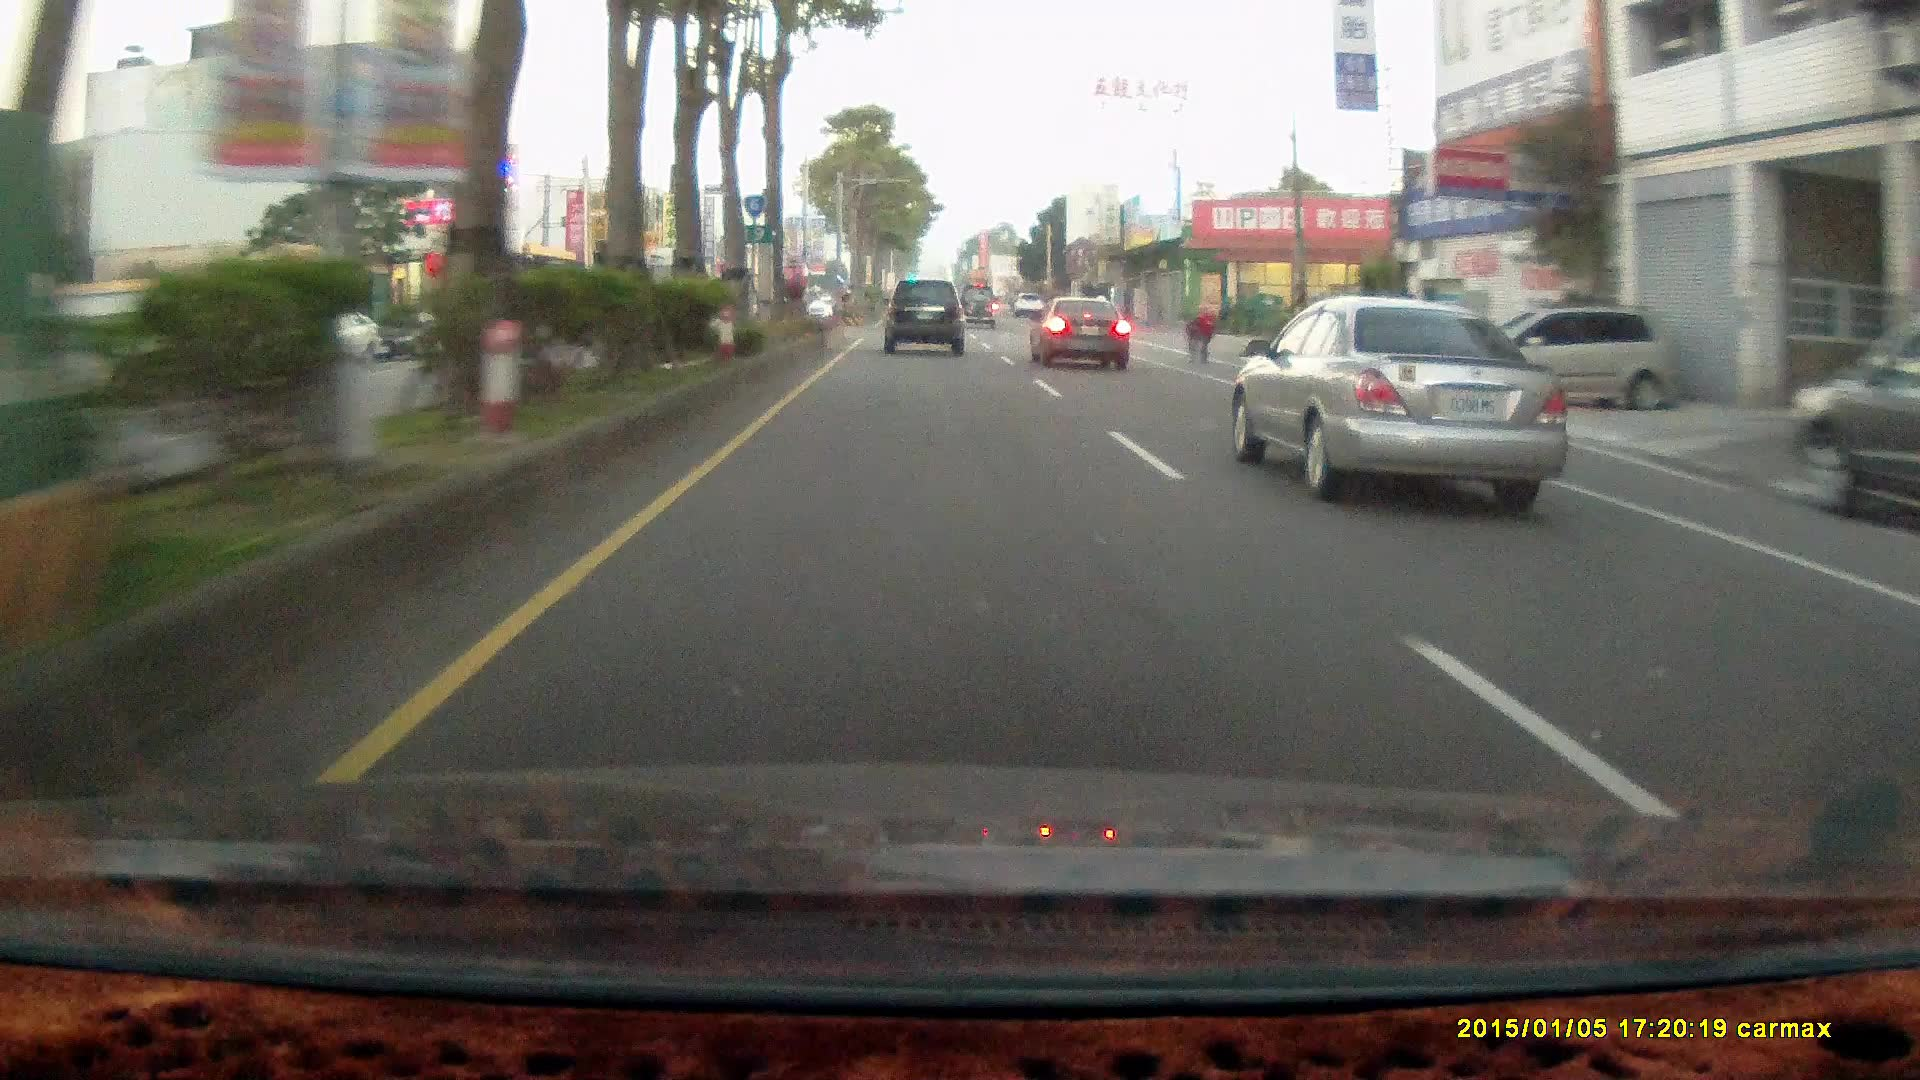pedestrian: (1192, 299, 1216, 361), (1194, 302, 1216, 361)
vehicle: (1238, 298, 1570, 503), (1785, 304, 1920, 527), (1467, 300, 1673, 409), (1488, 300, 1675, 409), (1029, 293, 1135, 370), (1028, 292, 1129, 370), (883, 284, 971, 360), (883, 278, 964, 353), (958, 279, 997, 325)
